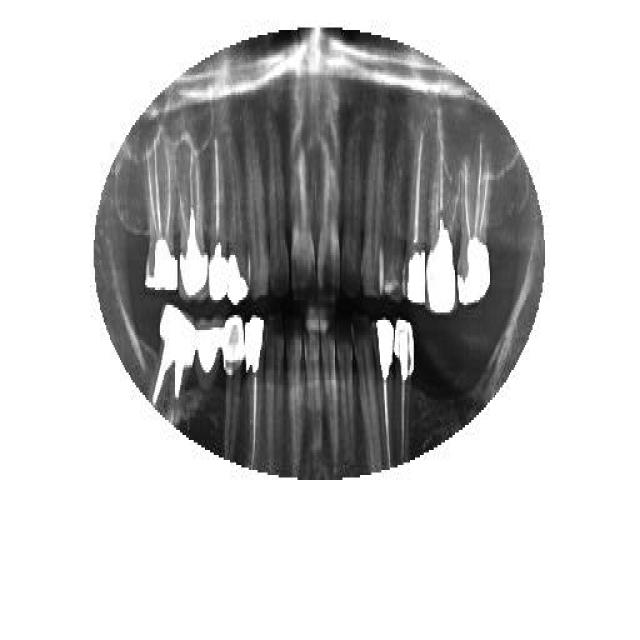Fillings: (225, 170, 249, 305), (221, 320, 244, 458), (196, 312, 224, 392)
Implant: (455, 138, 495, 308), (425, 113, 455, 315), (142, 130, 178, 292), (152, 300, 198, 425), (178, 140, 208, 300), (404, 128, 428, 308), (375, 312, 400, 470), (244, 315, 265, 470), (208, 138, 226, 298), (396, 315, 416, 450)
